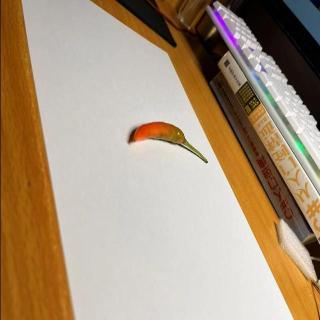Cabai Merah: (133, 122, 209, 164)
